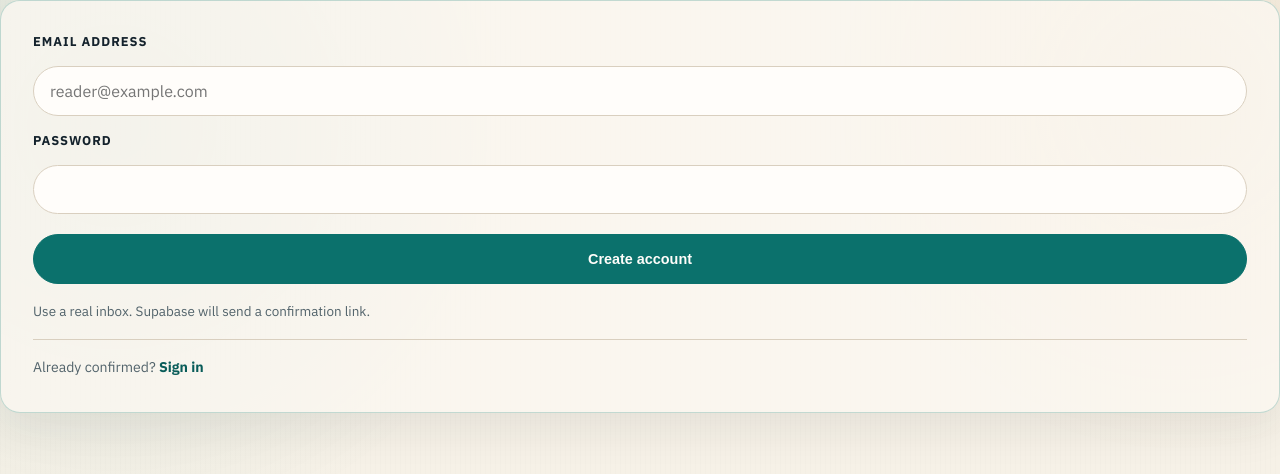
Scenario: SignupForm › validates invalid form values before contacting Supabase
The image size is (1280, 474).
Step 1. Type "not-an-email" into the field labelled "Email address" → (640, 91), box left=33, top=66, right=1247, bottom=116
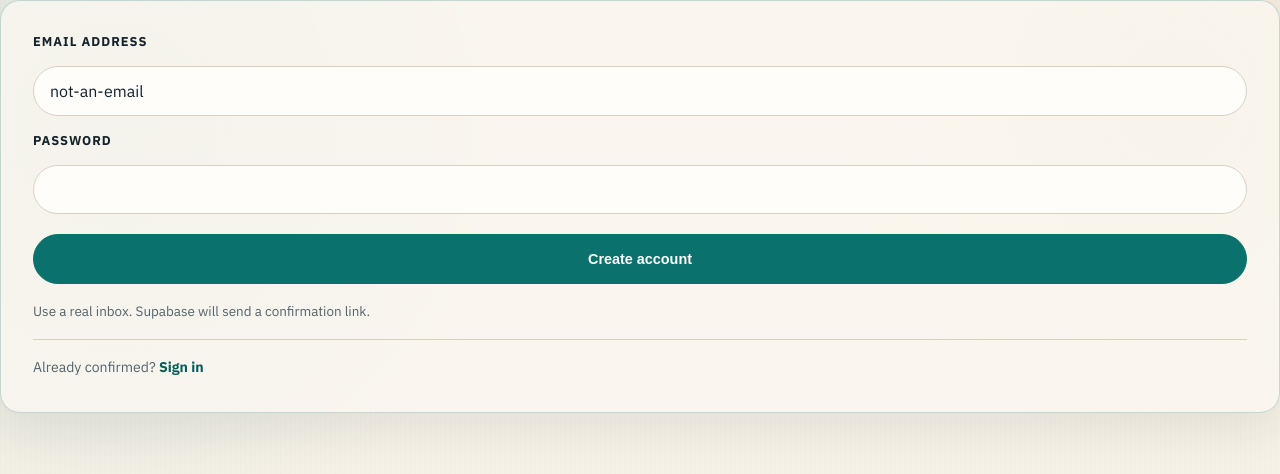
Step 2. Type "short" into the password field labelled "Password" → (640, 189), box left=33, top=165, right=1247, bottom=214
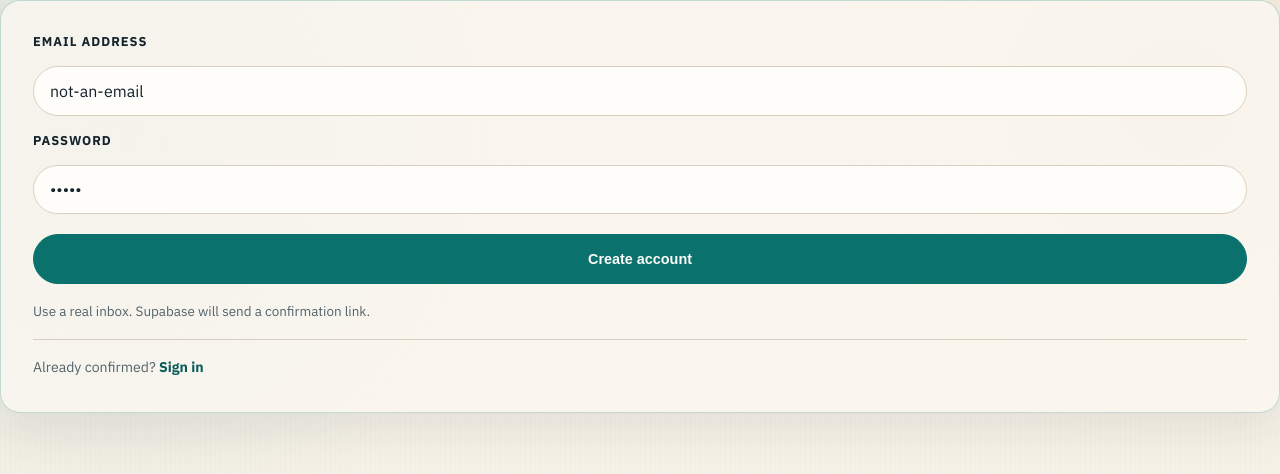
Step 3. Click the button "Create account" → (640, 259), box left=33, top=234, right=1247, bottom=284
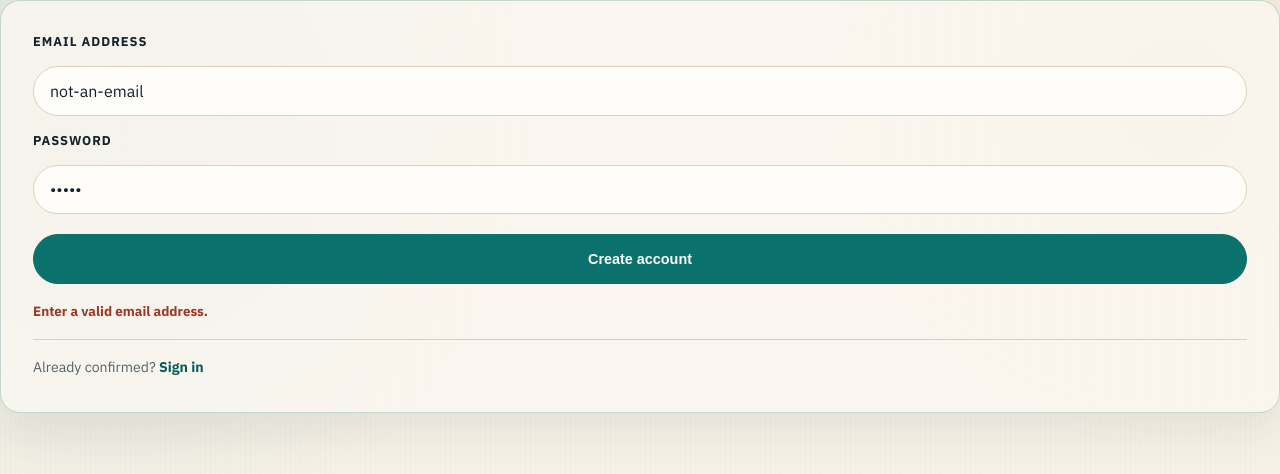
Expected: the text "Enter a valid email address." is shown, left=33, top=302, right=208, bottom=320
